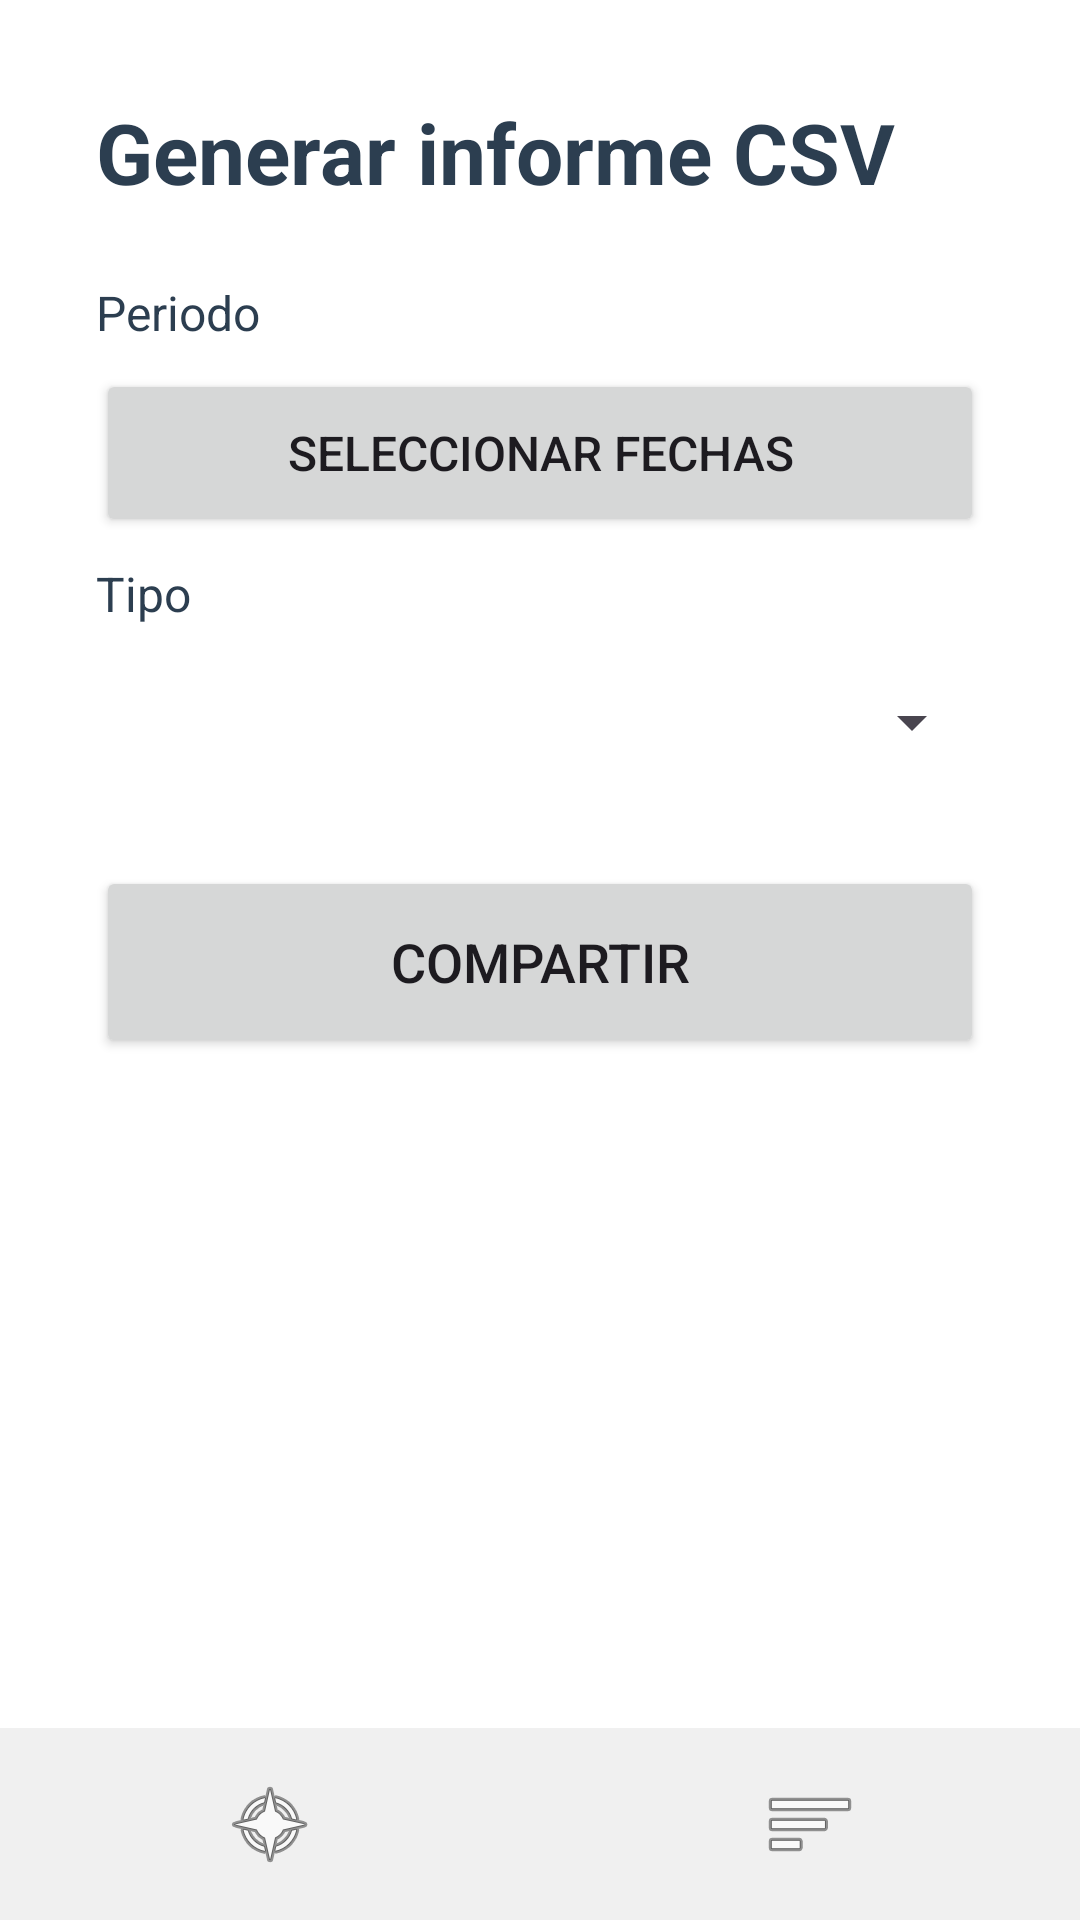

Named icons in this screenshot (1080 x 1920) and their centers, [x,y]:
Ir a informes: [810,1824]
